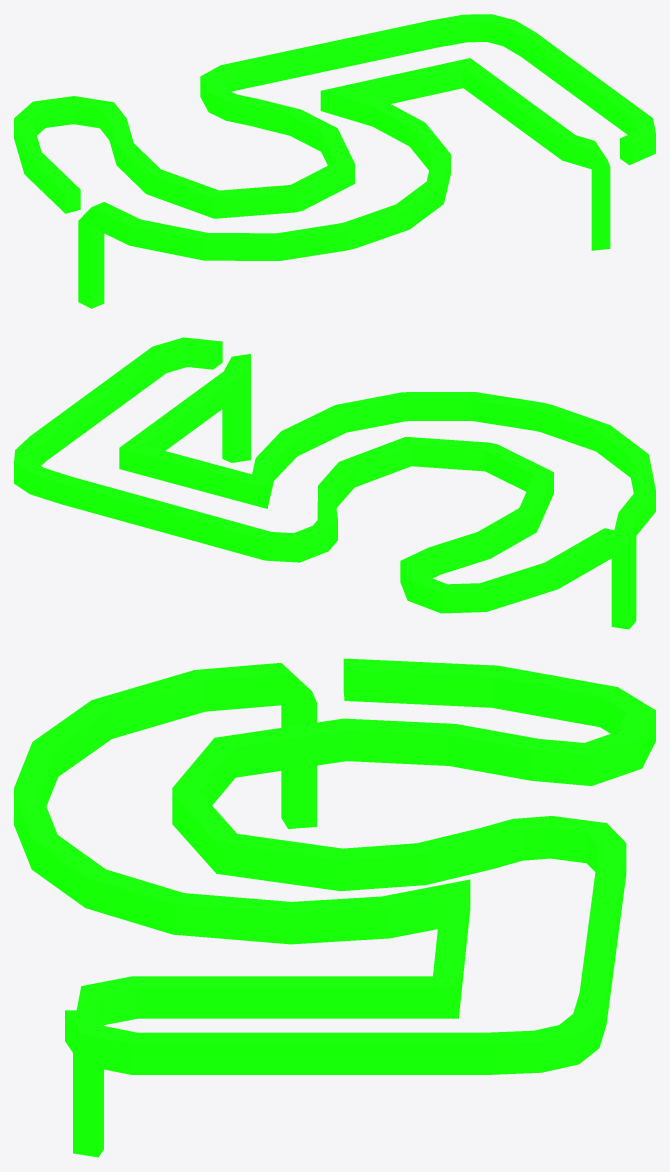
File: Number_3D_04_5.FBX
The picture shows the model from 3 angles, top to bottom: view 1: azimuth 30°, elevation 25°; view 2: azimuth 150°, elevation 25°; view 3: azimuth 270°, elevation 25°; orthographic projection. The views are drawn at different scales.
Visible parts, largest first — view 1: Number_3D_04_5; view 2: Number_3D_04_5; view 3: Number_3D_04_5.
Part boxes in pixels (x1,y1,x2,y2): Number_3D_04_5: (14,14,655,308); Number_3D_04_5: (14,337,655,629); Number_3D_04_5: (14,658,655,1157).
Bounding box in the file's own units: 67.31 × 12.63 × 47.36.
